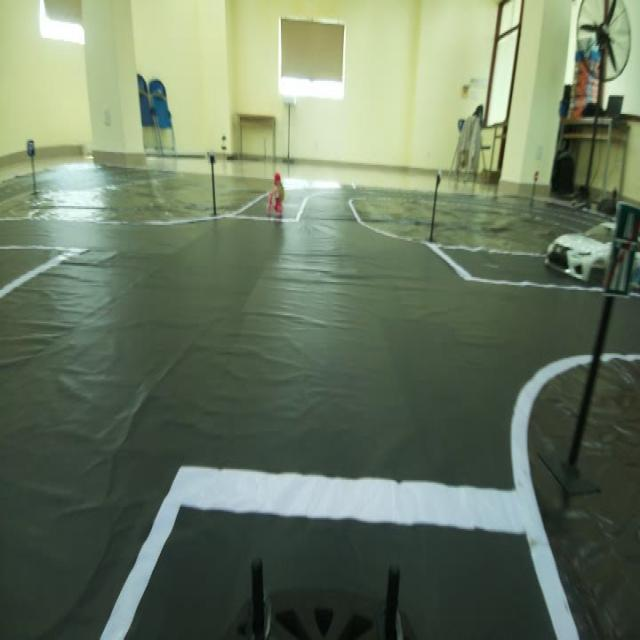highway_exit: (608, 198, 636, 299)
